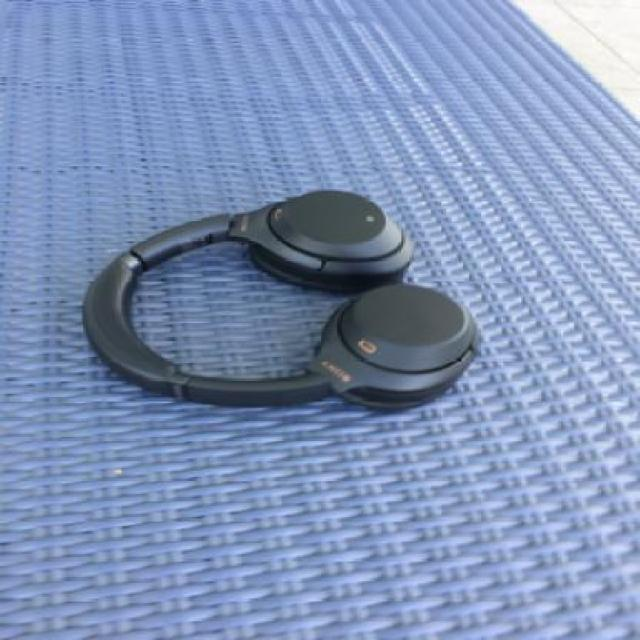earphone: (57, 118, 500, 432)
